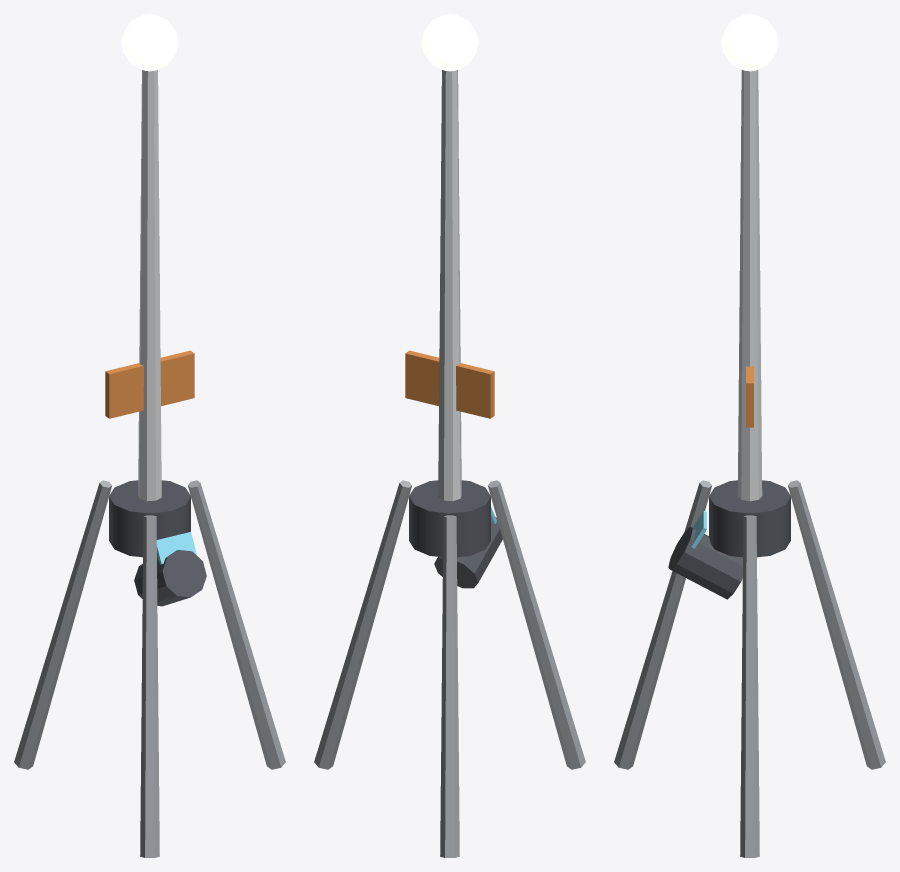
The model's file is beacon.fbx.
3 views of the same model, side by side, from view 1: azimuth 30°, elevation 25°; view 2: azimuth 150°, elevation 25°; view 3: azimuth 270°, elevation 25° (orthographic).
Parts seen in each view (by area): view 1: Body; view 2: Body; view 3: Body.
Part boxes in pixels (left/top/right/bottom): Body: left=14, top=14, right=285, bottom=857; Body: left=314, top=14, right=585, bottom=857; Body: left=614, top=14, right=885, bottom=857.
Size of the model in its own units: 2.87 by 10.5 by 3.31.
